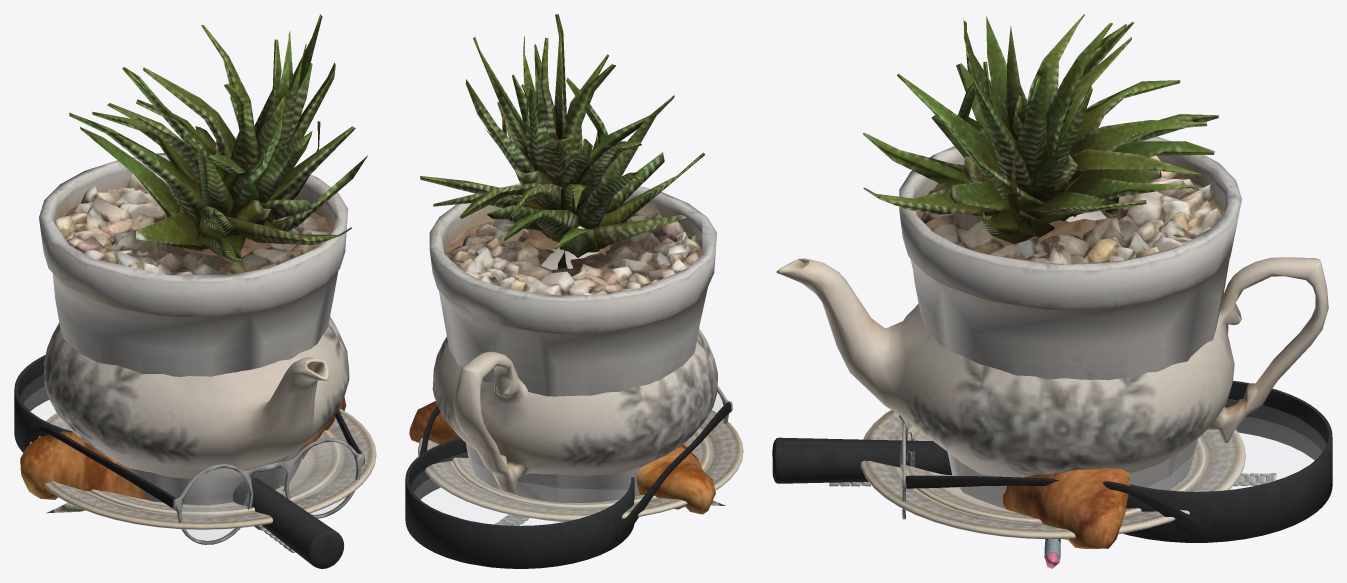
File: props.glb
3 views of the same model, side by side, from view 1: azimuth 30°, elevation 25°; view 2: azimuth 150°, elevation 25°; view 3: azimuth 270°, elevation 25° (orthographic). The views are drawn at different scales.
Parts seen in each view (by area): view 1: plant, teapot, spectacles, plate, magnifier, croissant, saucer; view 2: plant, teapot, magnifier, plate, croissant, spectacles, saucer; view 3: plant, teapot, magnifier, plate, croissant, spectacles, saucer.
Boxes of the visible parts, bbox=[...] form: plant: bbox=[39, 14, 367, 505]; teapot: bbox=[43, 209, 349, 479]; spectacles: bbox=[24, 409, 364, 544]; plate: bbox=[29, 409, 376, 529]; magnifier: bbox=[14, 355, 344, 568]; croissant: bbox=[20, 396, 346, 499]; saucer: bbox=[90, 430, 340, 515]; plant: bbox=[420, 14, 716, 502]; teapot: bbox=[432, 226, 717, 521]; magnifier: bbox=[405, 437, 634, 568]; plate: bbox=[418, 410, 743, 521]; croissant: bbox=[409, 401, 715, 514]; spectacles: bbox=[419, 386, 732, 540]; saucer: bbox=[452, 430, 709, 508]; plant: bbox=[863, 14, 1241, 509]; teapot: bbox=[776, 211, 1328, 477]; magnifier: bbox=[772, 381, 1332, 542]; plate: bbox=[860, 410, 1245, 539]; croissant: bbox=[1003, 468, 1129, 548]; spectacles: bbox=[899, 415, 1206, 537]; saucer: bbox=[900, 428, 1205, 523].
Size of the model in its own units: 0.1993 by 0.2672 by 0.2715.
14 materials, 9 textured.
